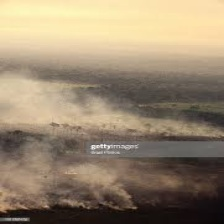smoke: (8, 82, 215, 137), (3, 161, 143, 210)
